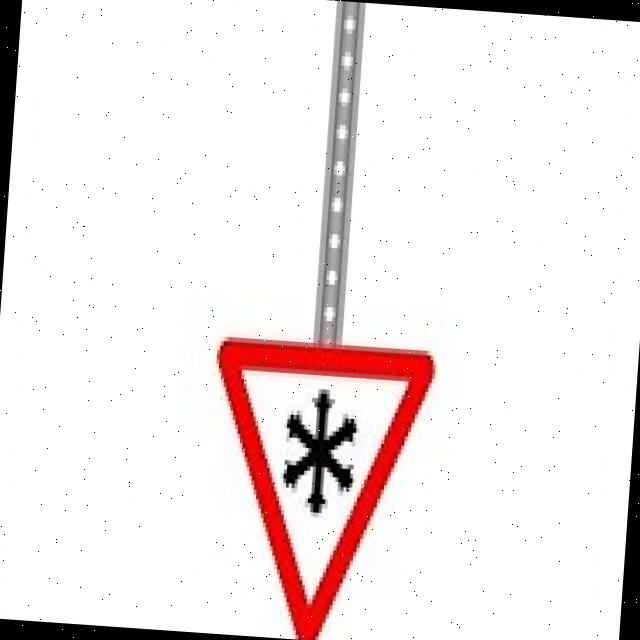snow_warning: (186, 312, 441, 640)
